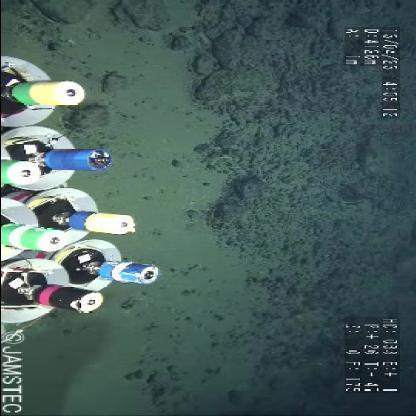Rov: (2, 50, 166, 331)
